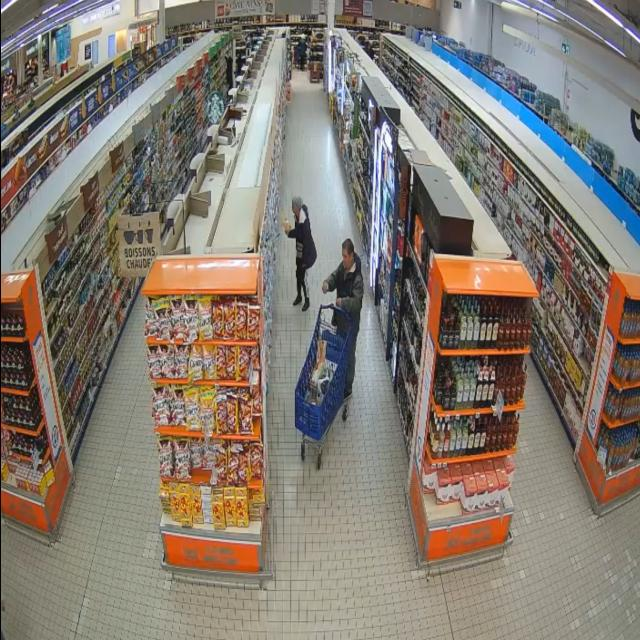article: (283, 218, 292, 232)
hands: (322, 281, 328, 294), (336, 298, 342, 307), (284, 222, 287, 232)
person: (323, 239, 363, 399), (285, 197, 316, 311)
